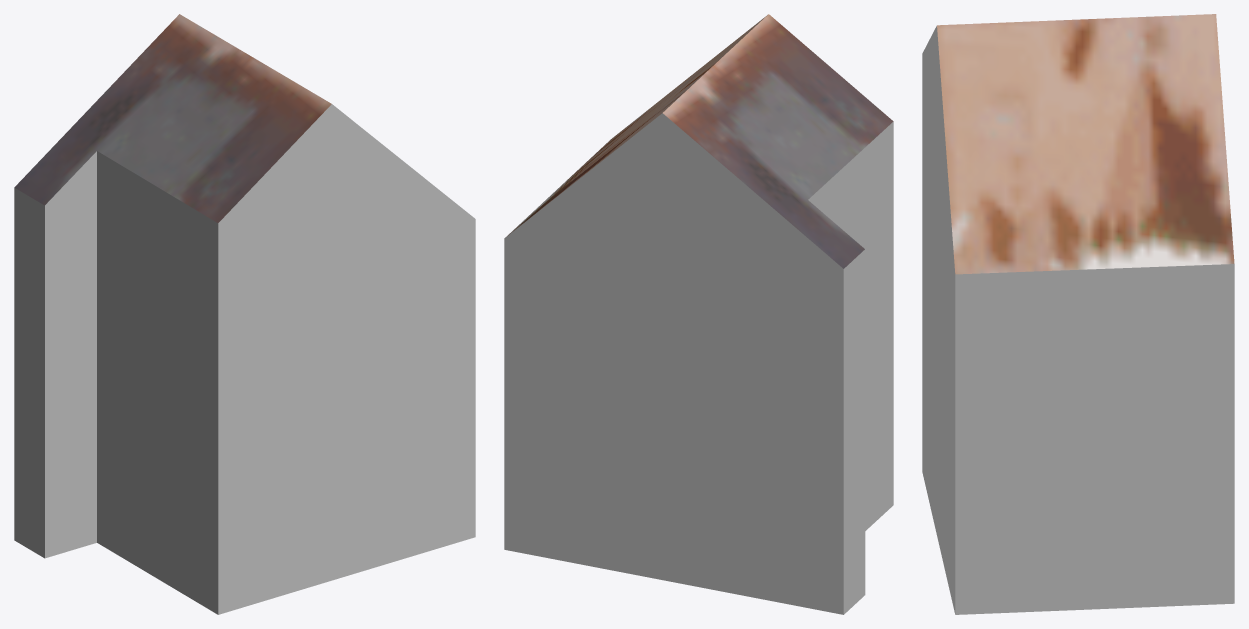
Rendered from DEBW_0010007Tx8B.gltf.
3 views of the same model, side by side, from view 1: azimuth 30°, elevation 25°; view 2: azimuth 150°, elevation 25°; view 3: azimuth 270°, elevation 25° (orthographic). The views are drawn at different scales.
Parts seen in each view (by area): view 1: Z_UP; view 2: Z_UP; view 3: Z_UP.
Boxes of the visible parts, x1,y1,x2,y2 form: Z_UP: (14, 14, 475, 614); Z_UP: (504, 14, 893, 614); Z_UP: (922, 14, 1234, 614).
Bounding box in the file's own units: 14.47 × 18.87 × 10.46.
2 materials, 1 textured.
